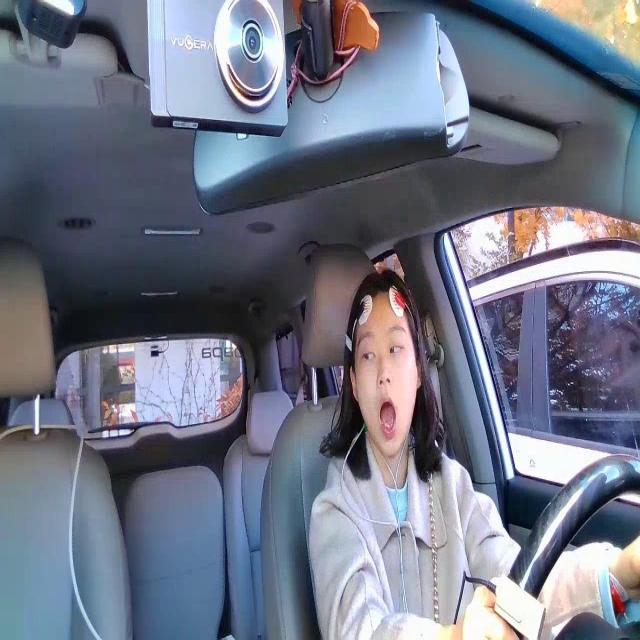Inattentive: (346, 266, 422, 461)
Yawning: (378, 396, 399, 438)
